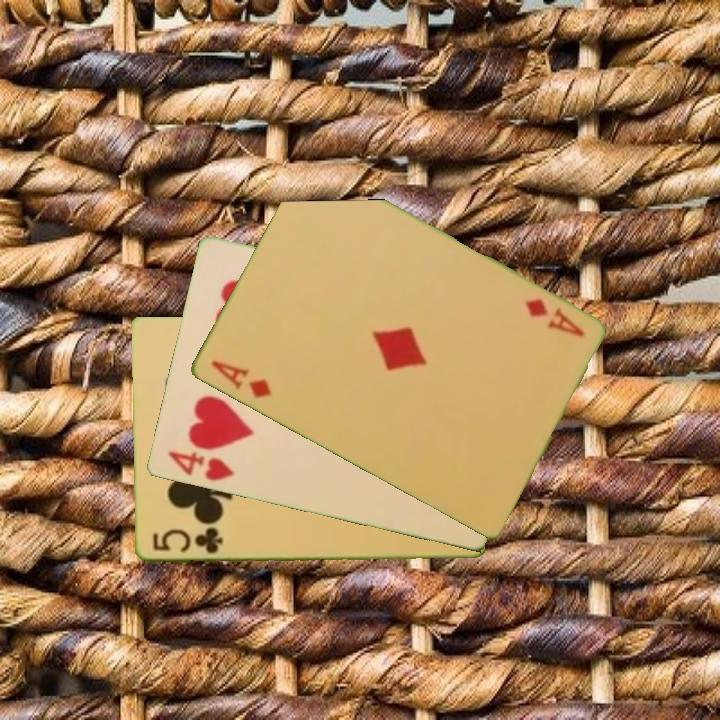4h: (163, 448, 237, 484)
5c: (149, 524, 225, 557)
Ad: (207, 356, 275, 402), (520, 295, 587, 340)
